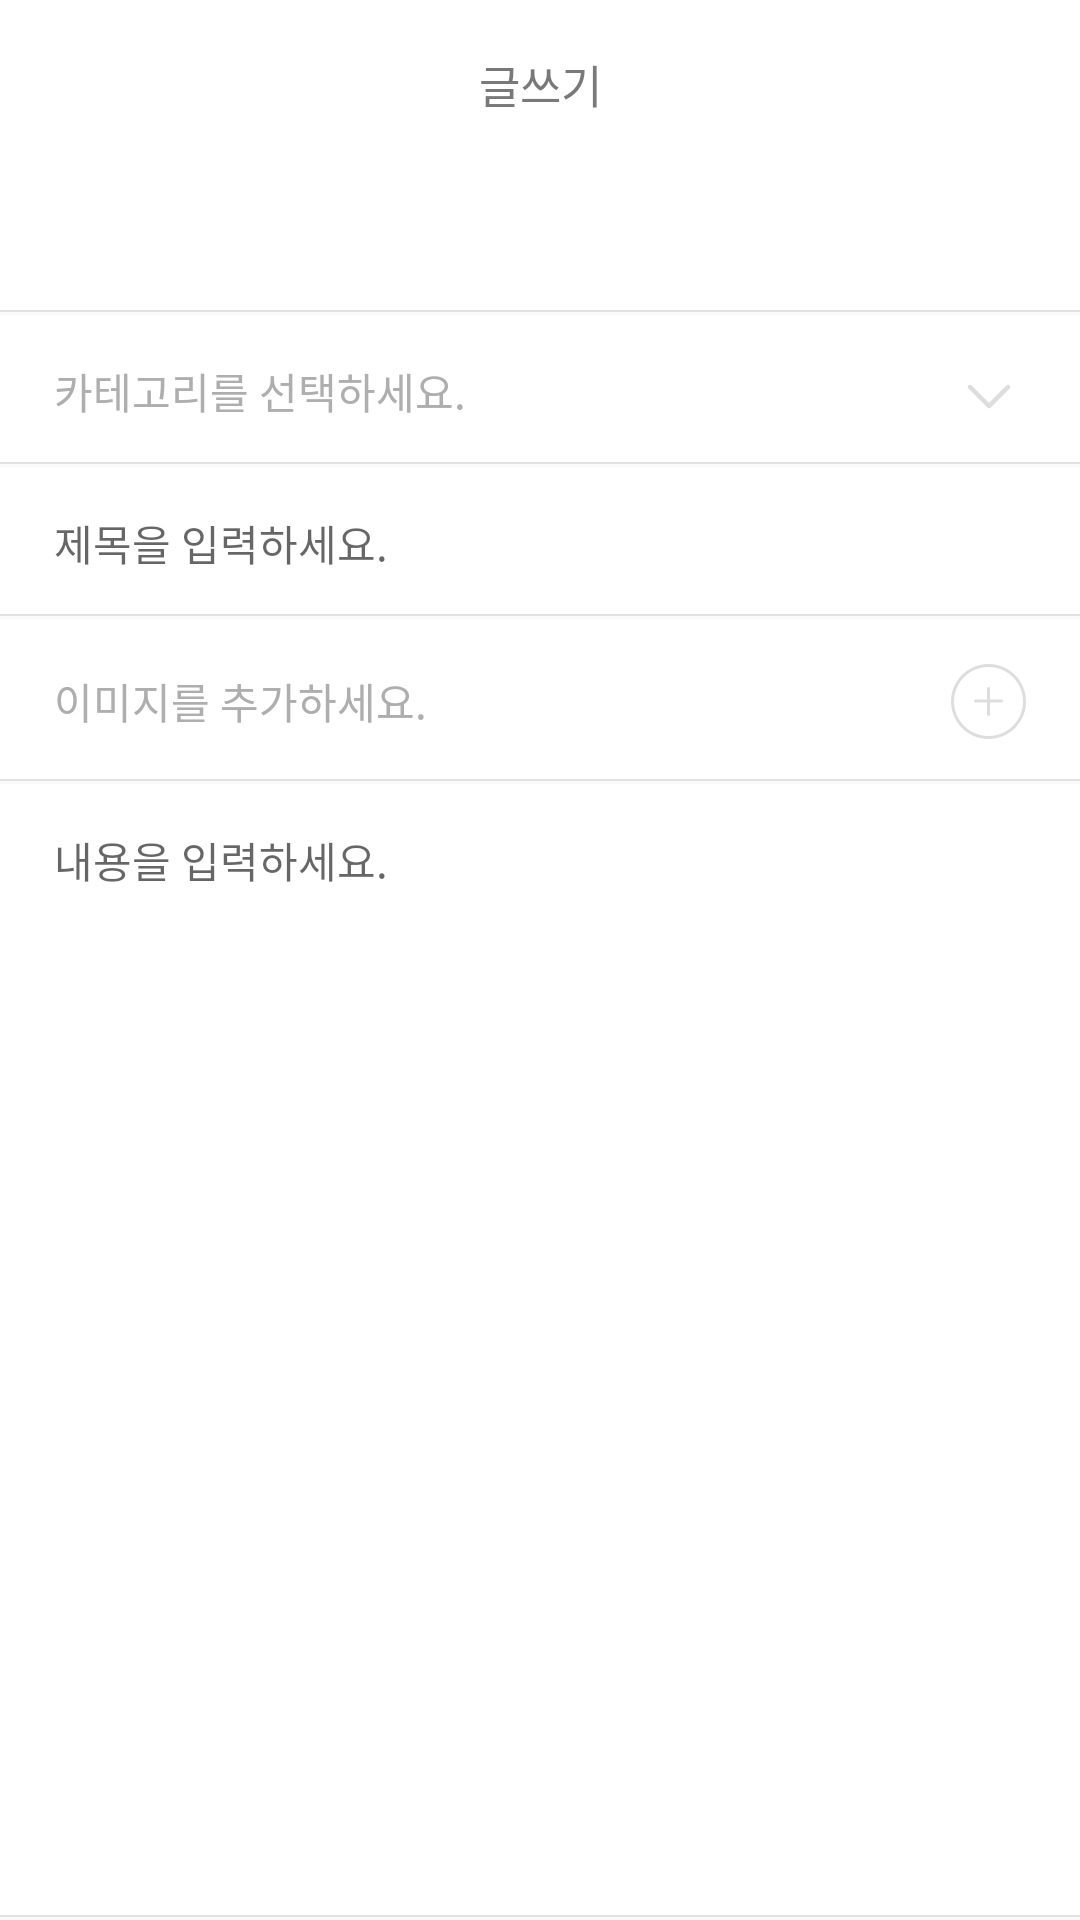

Locate icon controls on the screen. Image size 1080x1920, boxes as (x1, y1, x2, y2).
down: (968, 385, 1010, 408)
